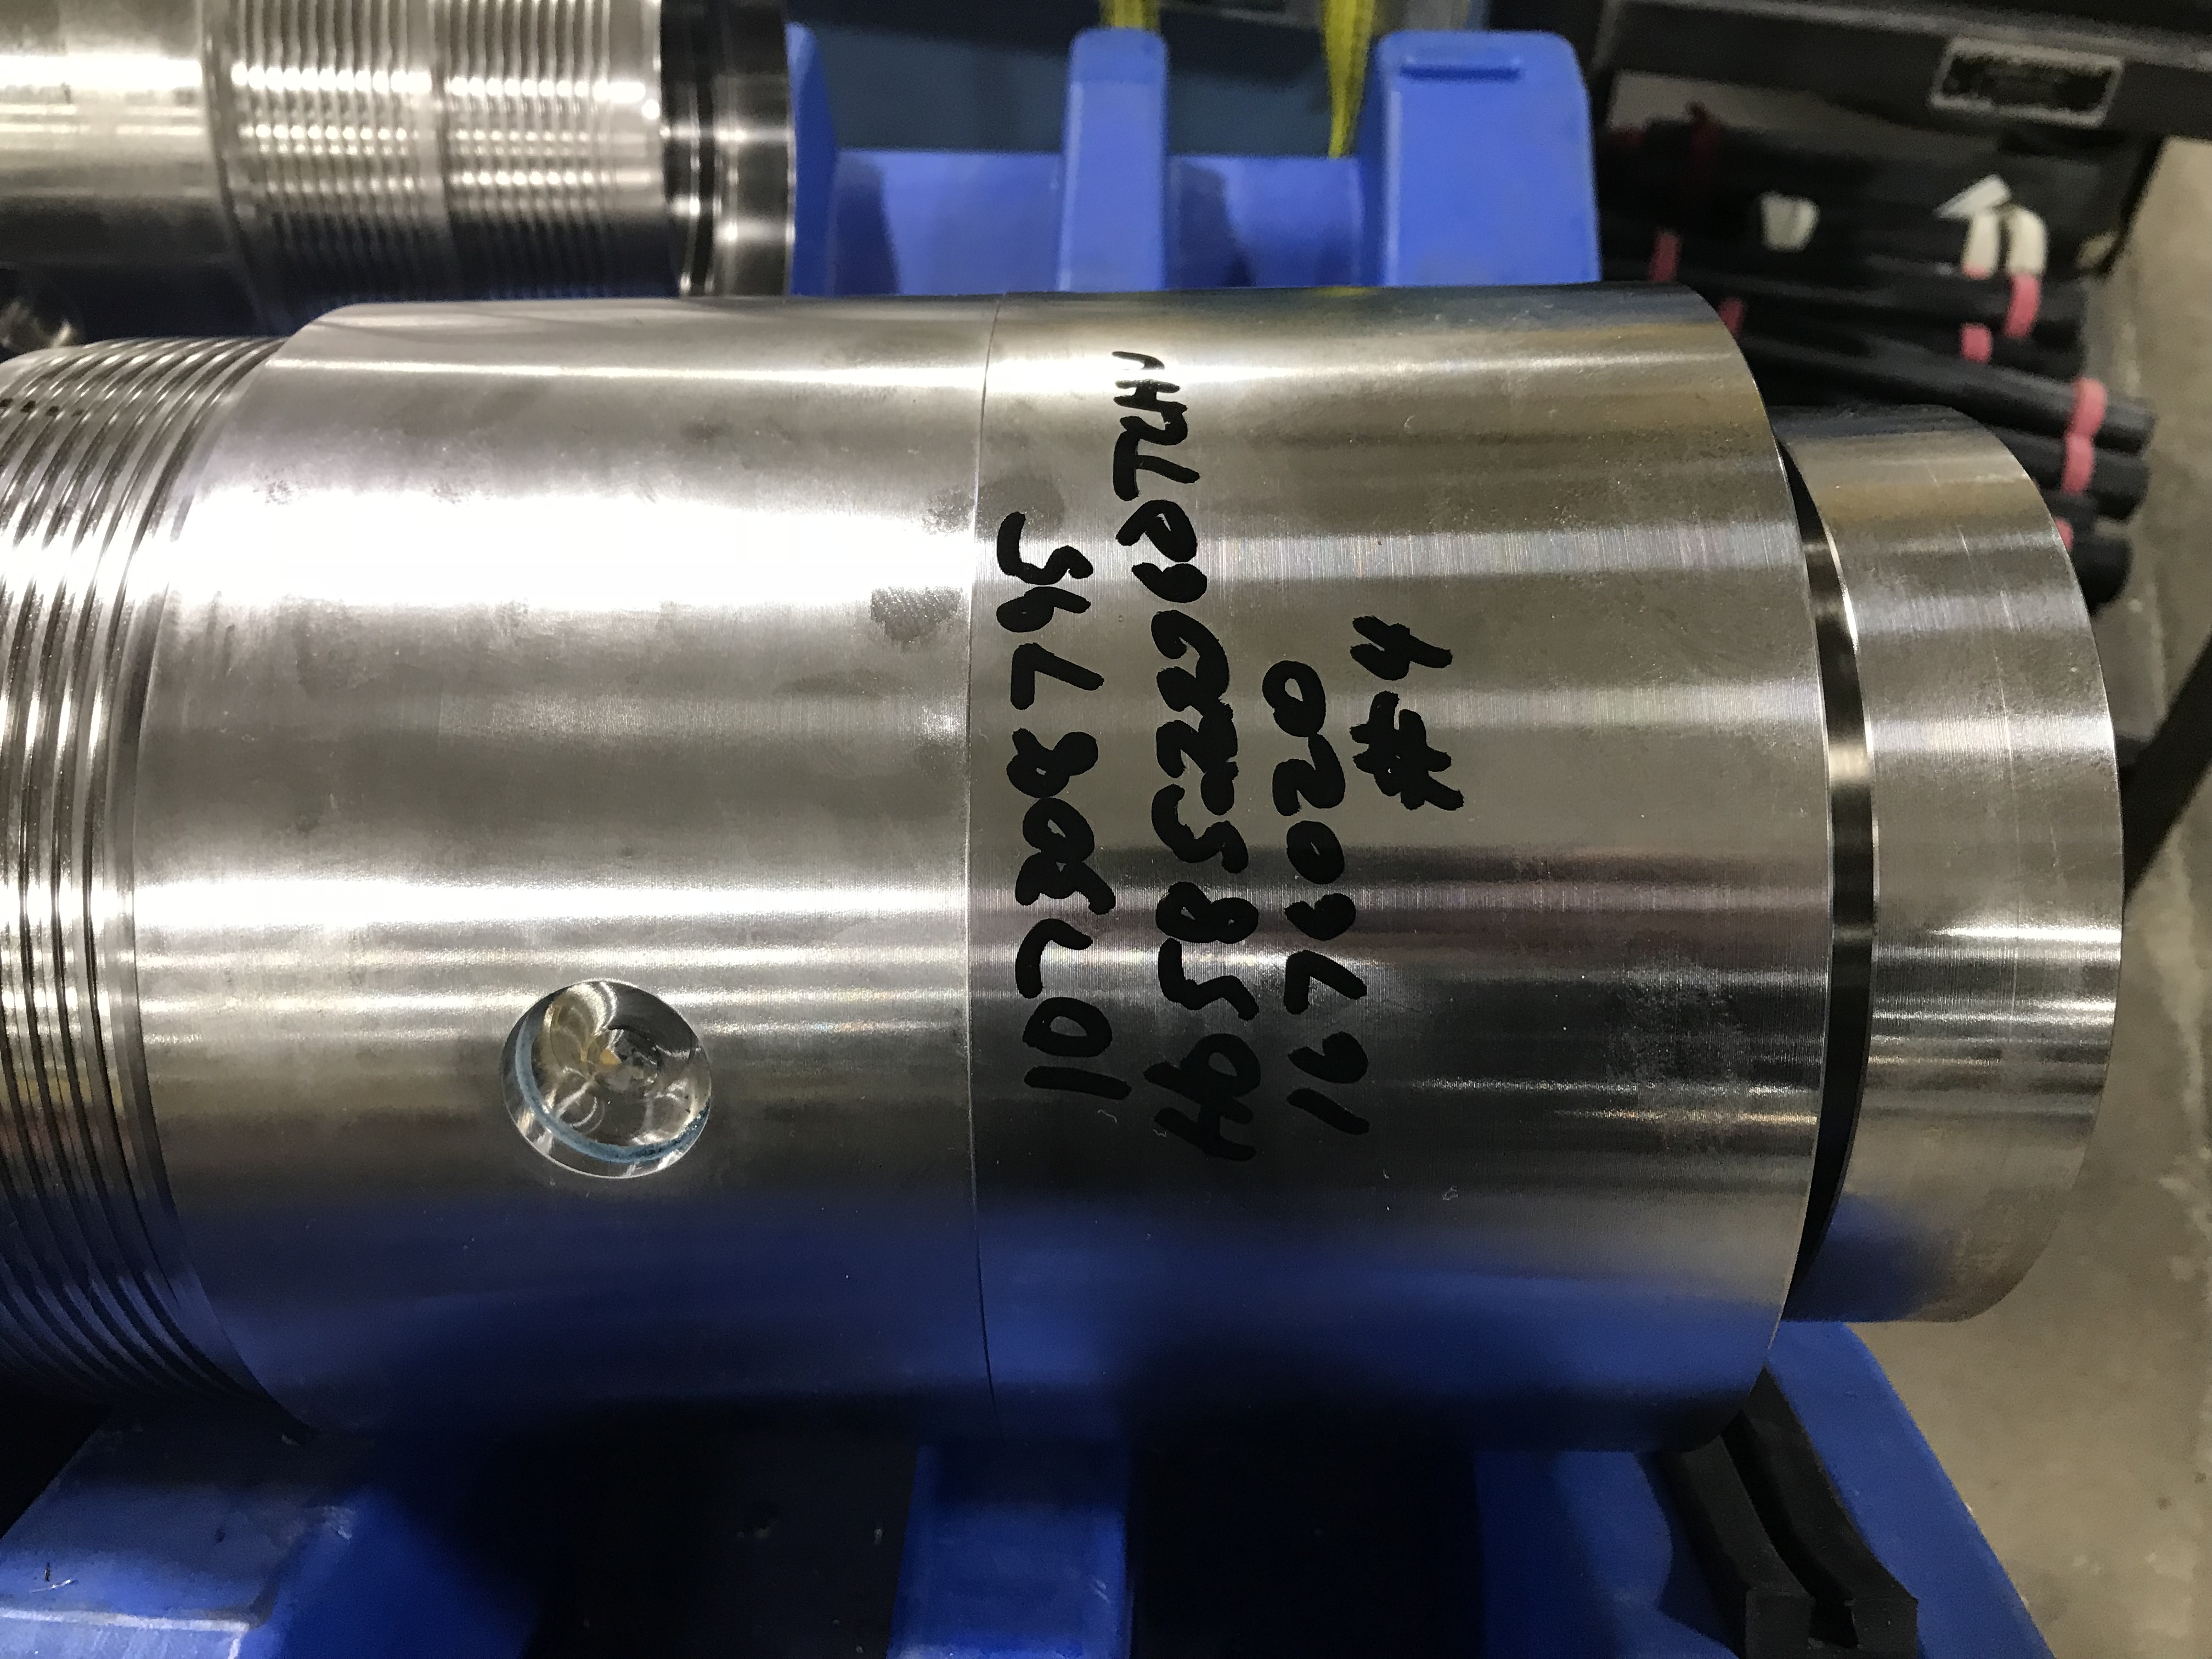character: (1345, 688, 1475, 821), (1144, 1060, 1263, 1166), (1146, 777, 1259, 875), (1345, 603, 1465, 688), (1153, 938, 1266, 1026), (1146, 721, 1252, 816), (1256, 734, 1357, 823), (1003, 915, 1101, 1000), (995, 504, 1094, 587), (1005, 640, 1113, 714), (1153, 877, 1268, 945), (1001, 725, 1104, 800), (1278, 943, 1381, 1018), (1014, 993, 1125, 1061), (1012, 1056, 1136, 1114), (1136, 606, 1247, 669), (1012, 854, 1122, 915), (1268, 817, 1364, 887), (1261, 655, 1341, 737), (1284, 1080, 1378, 1150), (1278, 1028, 1381, 1091), (1015, 795, 1111, 859), (991, 582, 1099, 638), (1155, 664, 1244, 727), (1186, 1030, 1268, 1098), (1278, 889, 1369, 948), (1123, 493, 1202, 561), (1125, 556, 1217, 605)
